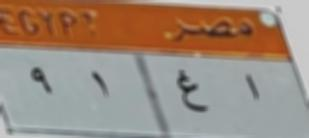1: (90, 69, 112, 100)
9: (28, 65, 58, 100)
alif: (238, 67, 263, 104)
ghayn: (174, 64, 213, 122)
